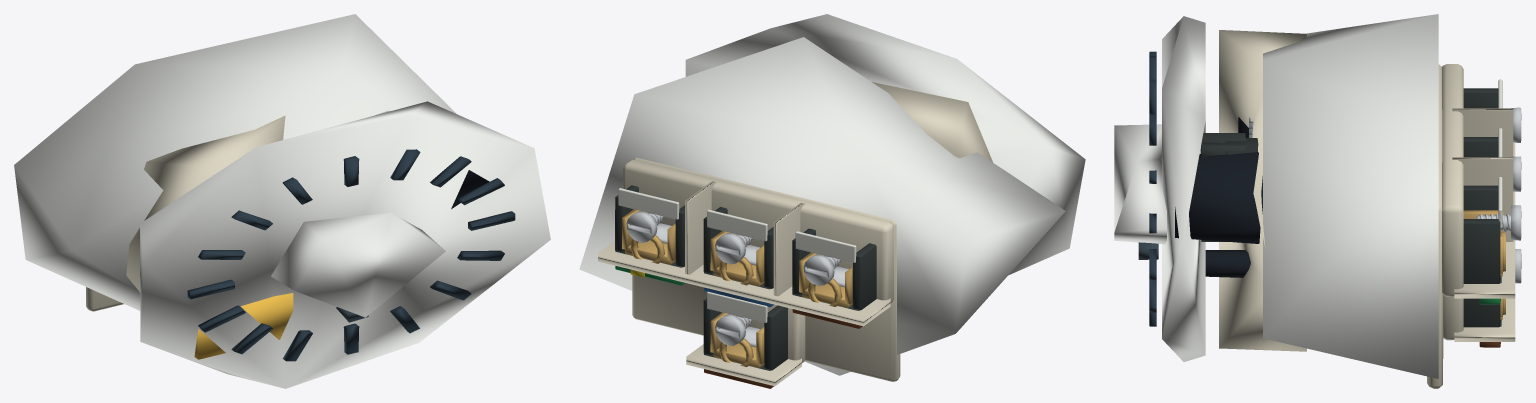
The model's file is alarm_default.low.glb.
The picture shows the model from 3 angles, left to right: view 1: azimuth 30°, elevation 25°; view 2: azimuth 150°, elevation 25°; view 3: azimuth 270°, elevation 25°; orthographic projection. The views are drawn at different scales.
Parts seen in each view (by area): view 1: part:cover · Original 7dbee62c, part:body, part:cover · Original a463fd81, part:battery, part:terminals · Original 5a609f27, part:sensing; view 2: part:body, part:terminals · Original 5a609f27, part:cover · Original 7dbee62c, detail:terminal-clamp:L · Detail moulded engineering polymer, detail:terminal-clamp:LINK · Detail moulded engineering poly, detail:terminal-clamp:N · Detail machined brass, detail:terminal-clamp:LINK · Detail machined brass, detail:terminal-clamp:PE · Detail machined brass, detail:terminal-clamp:L · Detail machined brass, detail:terminal-clamp:N · Detail moulded engineering polymer, Moulded terminal legend pad, Moulded terminal legend pad.002 (+7 smaller); view 3: part:body, part:cover · Original 7dbee62c, part:terminals · Original 5a609f27, part:sensing, detail:terminal-clamp:PE · Detail moulded engineering polyme, part:cover · Original a463fd81, part:electronics · Original 3ff2d46d, detail:alarm-transducer · Detail moulded engineering polymer, detail:terminal-clamp:LINK · Detail moulded engineering poly, detail:terminal-clamp:L · Detail moulded engineering polymer, detail:terminal-clamp:N · Detail moulded engineering polymer, detail:terminal-clamp:PE · Detail zinc plated fixing (+1 smaller).
Part boxes in pixels (x1,y1,x2,y2): part:cover · Original 7dbee62c: (140,101,550,388); part:body: (14,14,456,310); part:cover · Original a463fd81: (187,149,515,361); part:battery: (194,293,293,359); part:terminals · Original 5a609f27: (86,287,123,311); part:sensing: (451,170,489,209); part:body: (579,37,1065,375); part:terminals · Original 5a609f27: (598,157,900,386); part:cover · Original 7dbee62c: (685,14,1085,275); detail:terminal-clamp:L · Detail moulded engineering polymer: (792,228,876,310); detail:terminal-clamp:LINK · Detail moulded engineering poly: (703,298,787,370); detail:terminal-clamp:N · Detail machined brass: (710,231,764,286); detail:terminal-clamp:LINK · Detail machined brass: (710,312,764,367); detail:terminal-clamp:PE · Detail machined brass: (622,209,675,264); detail:terminal-clamp:L · Detail machined brass: (799,252,852,307); detail:terminal-clamp:N · Detail moulded engineering polymer: (703,207,773,289); Moulded terminal legend pad: (795,231,856,262); Moulded terminal legend pad.002: (618,188,679,219); part:body: (1219,14,1438,378); part:cover · Original 7dbee62c: (1114,16,1205,361); part:terminals · Original 5a609f27: (1427,64,1515,388); part:sensing: (1175,152,1262,243); detail:terminal-clamp:PE · Detail moulded engineering polyme: (1463,185,1501,283); part:cover · Original a463fd81: (1149,51,1156,326); part:electronics · Original 3ff2d46d: (1205,117,1250,277); detail:alarm-transducer · Detail moulded engineering polymer: (1200,133,1258,241); detail:terminal-clamp:LINK · Detail moulded engineering poly: (1463,298,1501,327); detail:terminal-clamp:L · Detail moulded engineering polymer: (1463,88,1498,108); detail:terminal-clamp:N · Detail moulded engineering polymer: (1463,137,1498,157); detail:terminal-clamp:PE · Detail zinc plated fixing: (1476,205,1521,240).
Bounding box in the file's own units: 0.857 × 0.489 × 0.5996.
